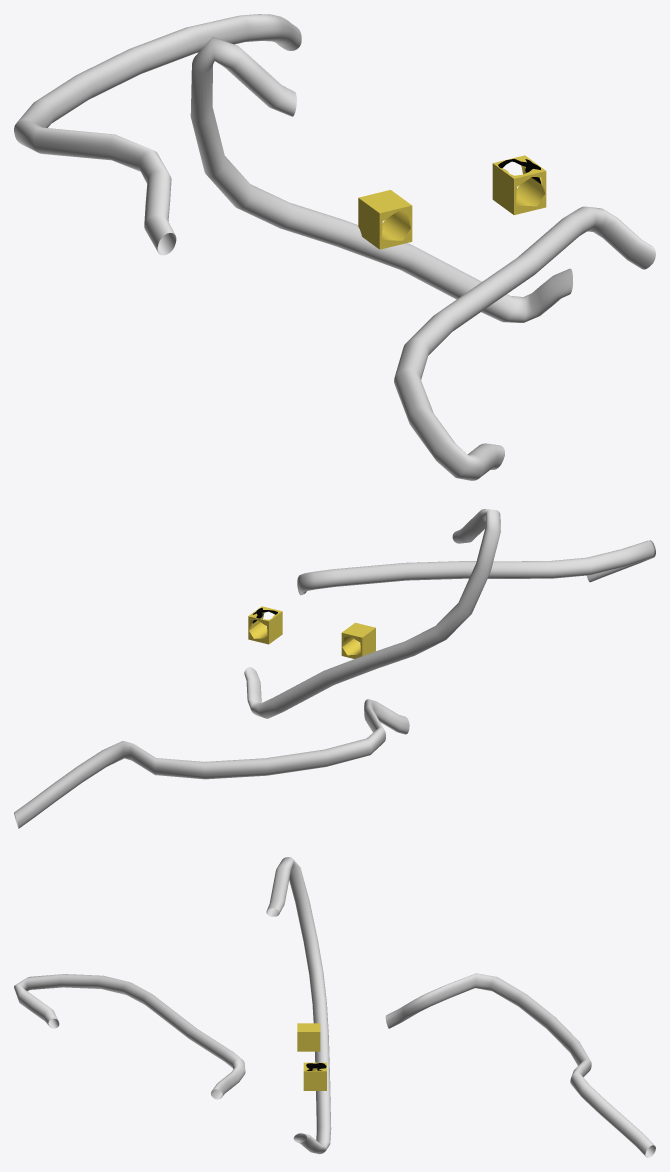
The model's file is CavePrototypeAlpha.fbx.
3 views of the same model, one above another, from view 1: azimuth 30°, elevation 25°; view 2: azimuth 150°, elevation 25°; view 3: azimuth 270°, elevation 25° (orthographic). The views are drawn at different scales.
Parts seen in each view (by area): view 1: BézierCurve.003, BézierCurve.002, BézierCurve.001, caveTunnelBlock1, caveTunnelBlock2; view 2: BézierCurve.002, BézierCurve.003, BézierCurve.001, caveTunnelBlock1, caveTunnelBlock2; view 3: BézierCurve.002, BézierCurve.003, BézierCurve.001, caveTunnelBlock1, caveTunnelBlock2.
Boxes of the visible parts, left/top/right/bottom form: BézierCurve.003: left=190, top=37, right=572, bottom=322; BézierCurve.002: left=14, top=14, right=301, bottom=255; BézierCurve.001: left=394, top=206, right=655, bottom=480; caveTunnelBlock1: left=358, top=190, right=412, bottom=249; caveTunnelBlock2: left=492, top=155, right=546, bottom=215; BézierCurve.002: left=14, top=699, right=409, bottom=828; BézierCurve.003: left=244, top=509, right=500, bottom=718; BézierCurve.001: left=297, top=540, right=655, bottom=595; caveTunnelBlock1: left=341, top=622, right=375, bottom=658; caveTunnelBlock2: left=248, top=606, right=282, bottom=644; BézierCurve.002: left=385, top=973, right=655, bottom=1157; BézierCurve.003: left=266, top=857, right=331, bottom=1154; BézierCurve.001: left=14, top=974, right=245, bottom=1099; caveTunnelBlock1: left=297, top=1023, right=320, bottom=1051; caveTunnelBlock2: left=303, top=1062, right=326, bottom=1090.
Size of the model in its own units: 11860 by 10051 by 28064.
